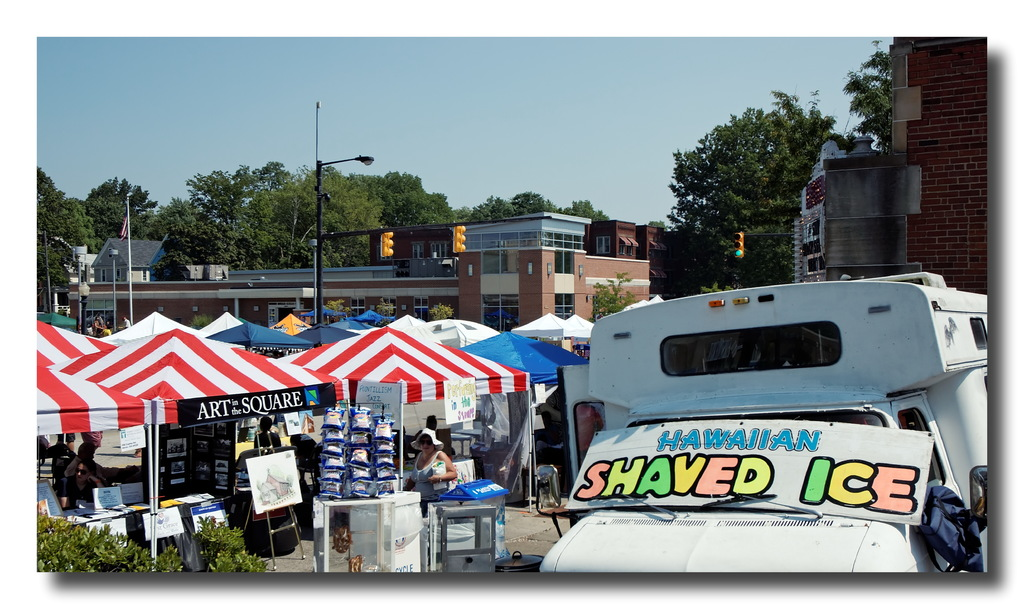Car: (234, 419, 290, 473), (573, 344, 590, 359)
